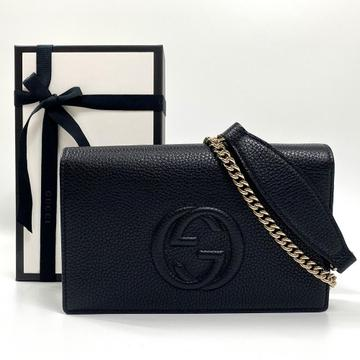Gucci: (54, 130, 355, 331), (140, 194, 250, 296)
